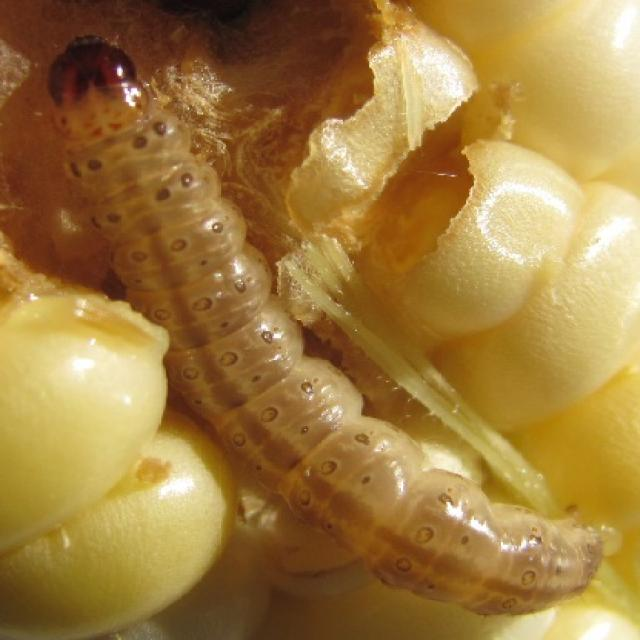cornborer-Larva-: (33, 37, 612, 615)
